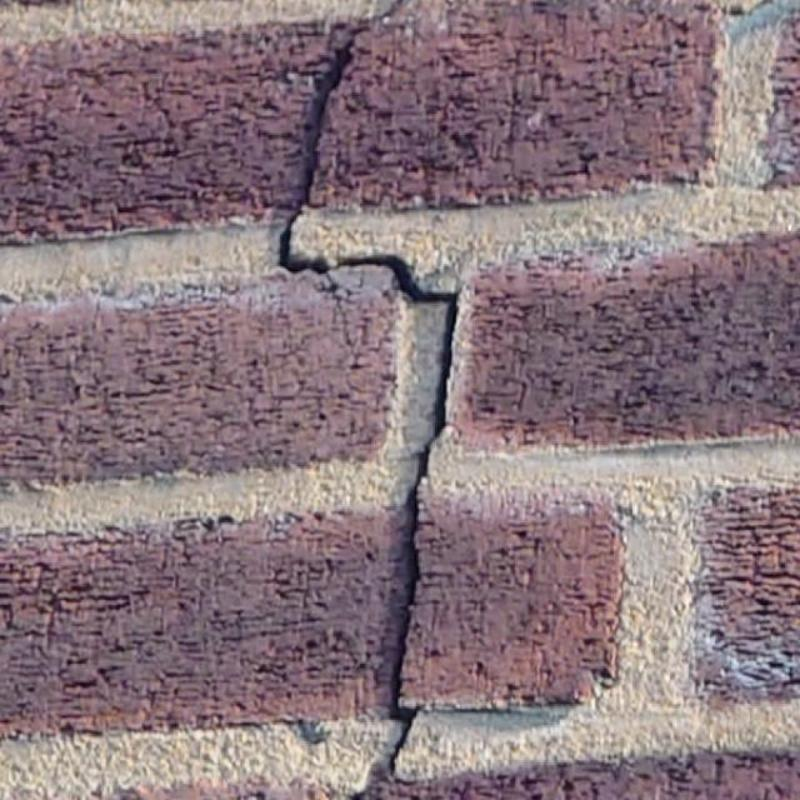crack: (338, 255, 456, 800), (278, 39, 350, 273)
